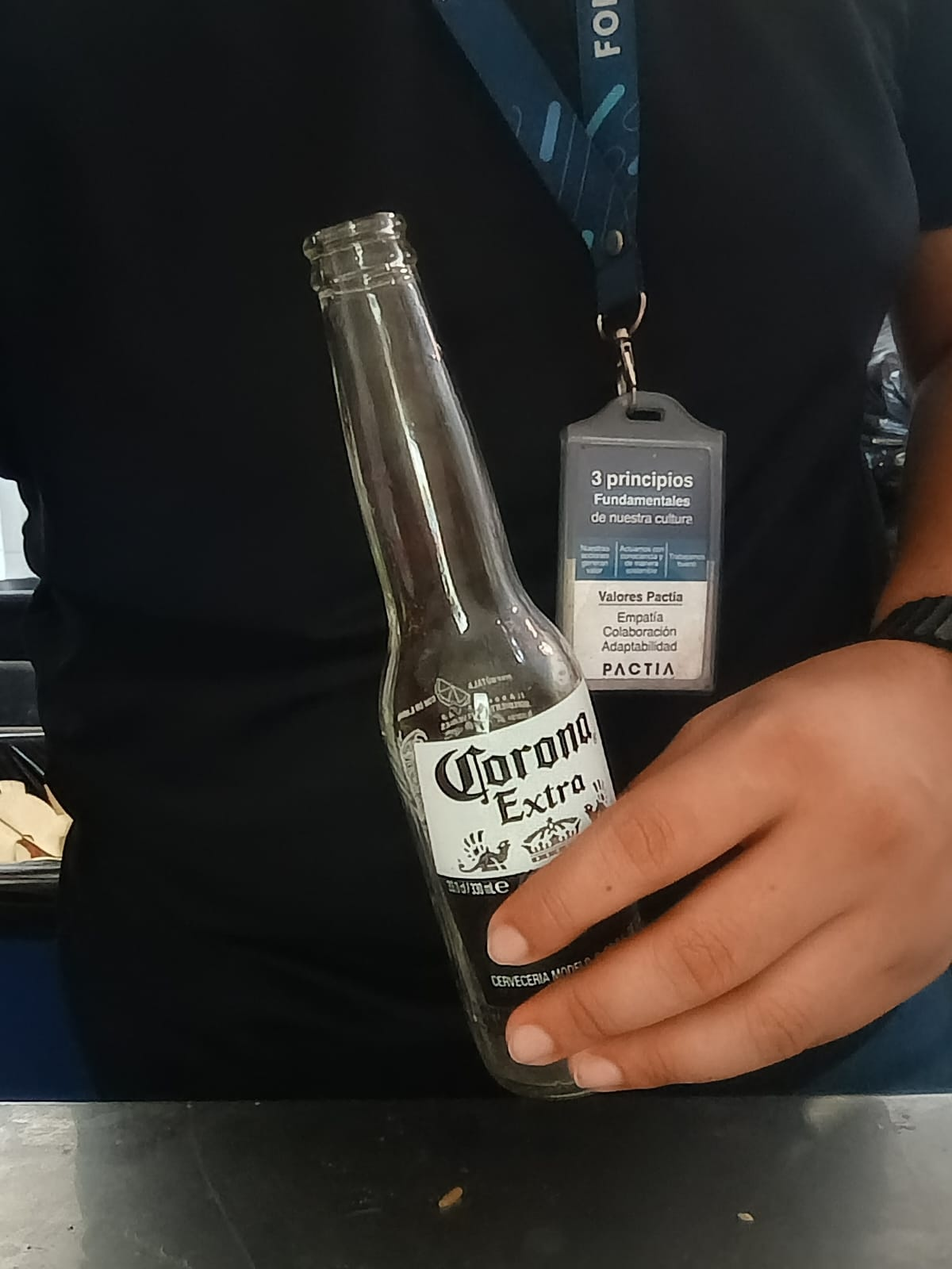Vidrio: (292, 211, 655, 1101)
